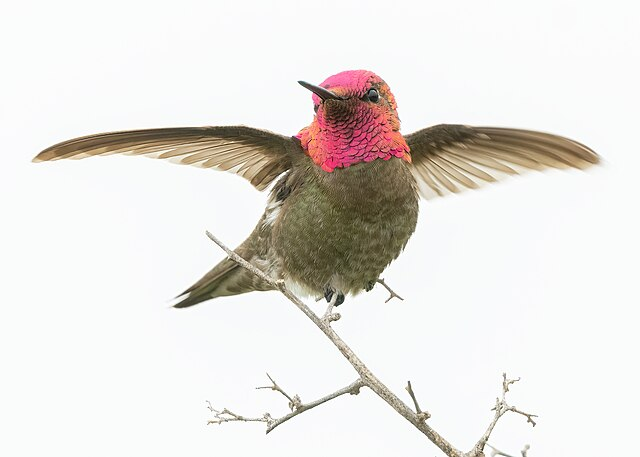calypte anna: (26, 70, 603, 305)
